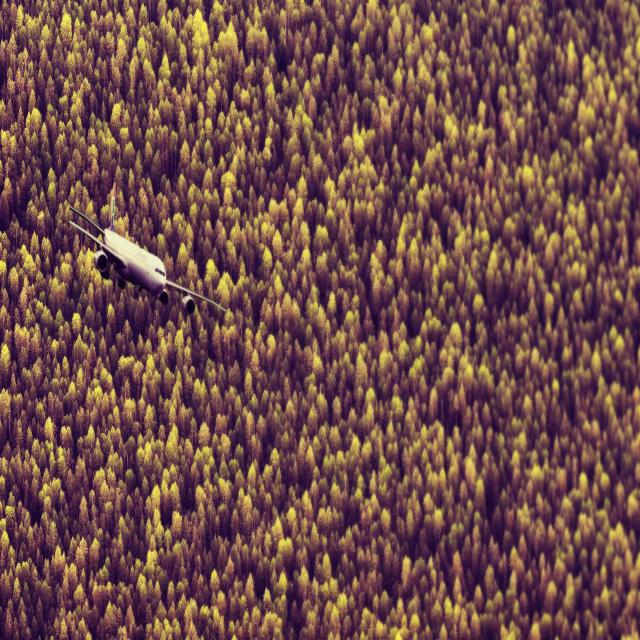airplane: (68, 180, 227, 317)
